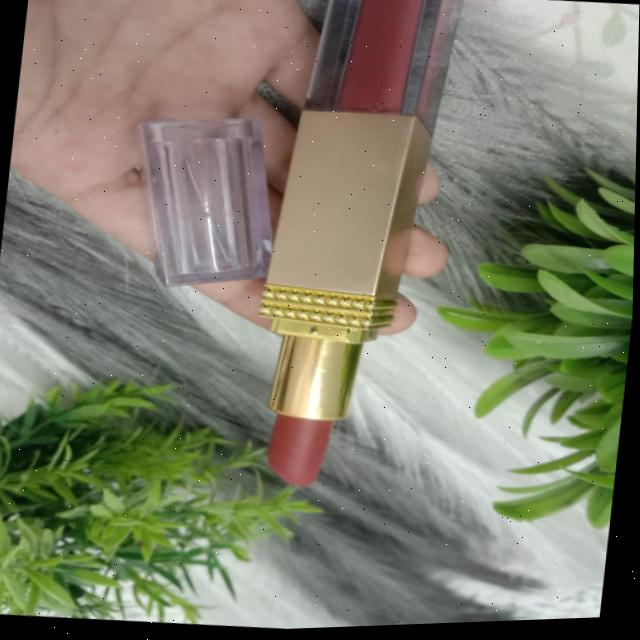lip stick: (104, 0, 454, 538)
